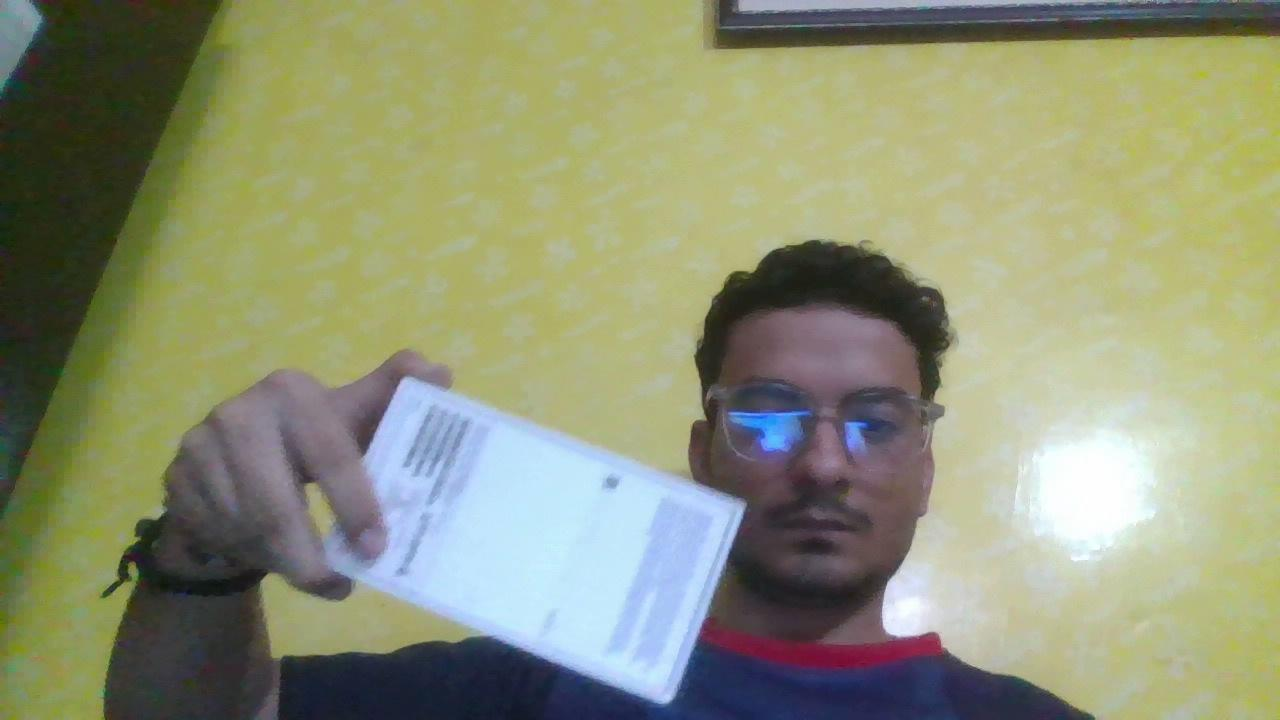Phone: (316, 345, 742, 703)
